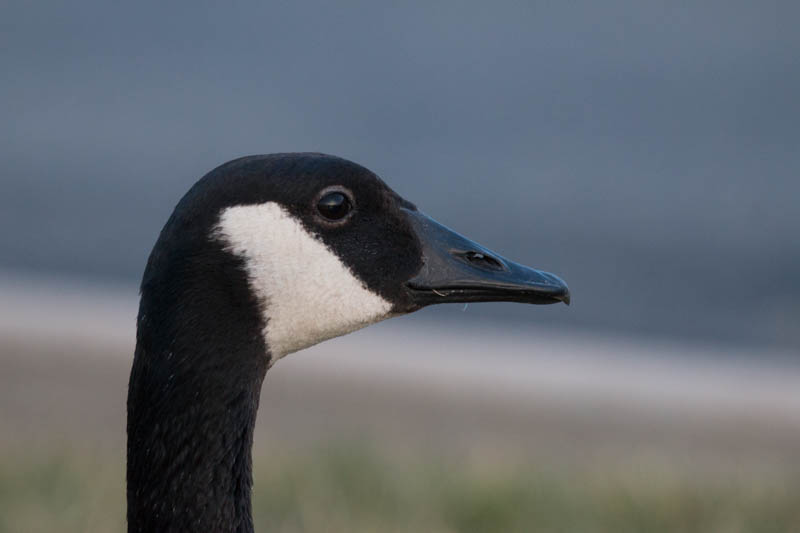goose-head: (135, 152, 572, 368)
